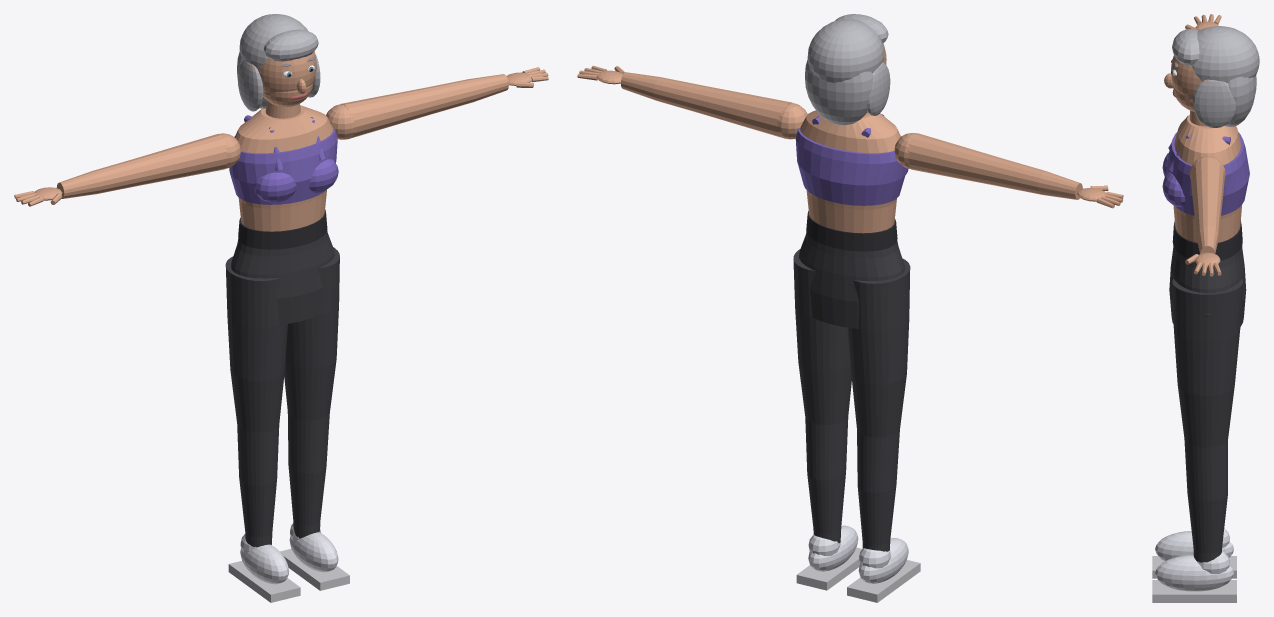
The model's file is coach_senior_tpose.obj.
The picture shows the model from 3 angles, left to right: view 1: azimuth 30°, elevation 25°; view 2: azimuth 150°, elevation 25°; view 3: azimuth 270°, elevation 25°; orthographic projection. The views are drawn at different scales.
Parts seen in each view (by area): view 1: Leg_L, Leg_R, Sports_bra, Torso, Leggings_hips, Arm_L, Arm_R, Hair, Soles, Waistband, Head, Shoe_L (+2 smaller); view 2: Leg_L, Leg_R, Hair, Sports_bra, Leggings_hips, Torso, Arm_L, Arm_R, Soles, Waistband, Shoe_L, Shoe_R (+1 smaller); view 3: Leg_R, Hair, Torso, Sports_bra, Arm_R, Leggings_hips, Shoe_R, Soles, Shoe_L, Waistband, Head, Hand_R (+2 smaller).
Boxes of the visible parts, <box> form: Leg_L: <box>225,256,287,547</box>; Leg_R: <box>284,247,339,538</box>; Sports_bra: <box>229,115,338,204</box>; Torso: <box>234,105,333,231</box>; Leggings_hips: <box>229,231,334,324</box>; Arm_L: <box>56,134,228,198</box>; Arm_R: <box>340,74,508,139</box>; Hair: <box>237,14,320,111</box>; Soles: <box>228,549,349,602</box>; Waistband: <box>238,209,327,249</box>; Head: <box>257,51,316,92</box>; Shoe_L: <box>240,534,289,584</box>; Leg_L: <box>847,258,910,551</box>; Leg_R: <box>793,249,851,543</box>; Hair: <box>805,14,890,125</box>; Sports_bra: <box>795,114,908,205</box>; Leggings_hips: <box>799,232,905,328</box>; Torso: <box>800,110,900,233</box>; Arm_L: <box>907,133,1082,199</box>; Arm_R: <box>620,72,792,138</box>; Soles: <box>796,547,920,602</box>; Waistband: <box>806,211,897,251</box>; Shoe_L: <box>858,538,908,583</box>; Shoe_R: <box>808,525,858,571</box>; Leg_R: <box>1172,278,1243,562</box>; Hair: <box>1172,26,1259,127</box>; Torso: <box>1173,114,1241,242</box>; Sports_bra: <box>1162,116,1249,215</box>; Arm_R: <box>1190,158,1224,253</box>; Leggings_hips: <box>1169,245,1246,326</box>; Shoe_R: <box>1155,551,1233,591</box>; Soles: <box>1152,556,1236,602</box>; Shoe_L: <box>1155,528,1233,560</box>; Waistband: <box>1172,221,1242,260</box>; Head: <box>1171,56,1201,100</box>; Hand_R: <box>1185,252,1221,276</box>.
Bounding box in the file's own units: 1.63 × 1.62 × 0.2855.
